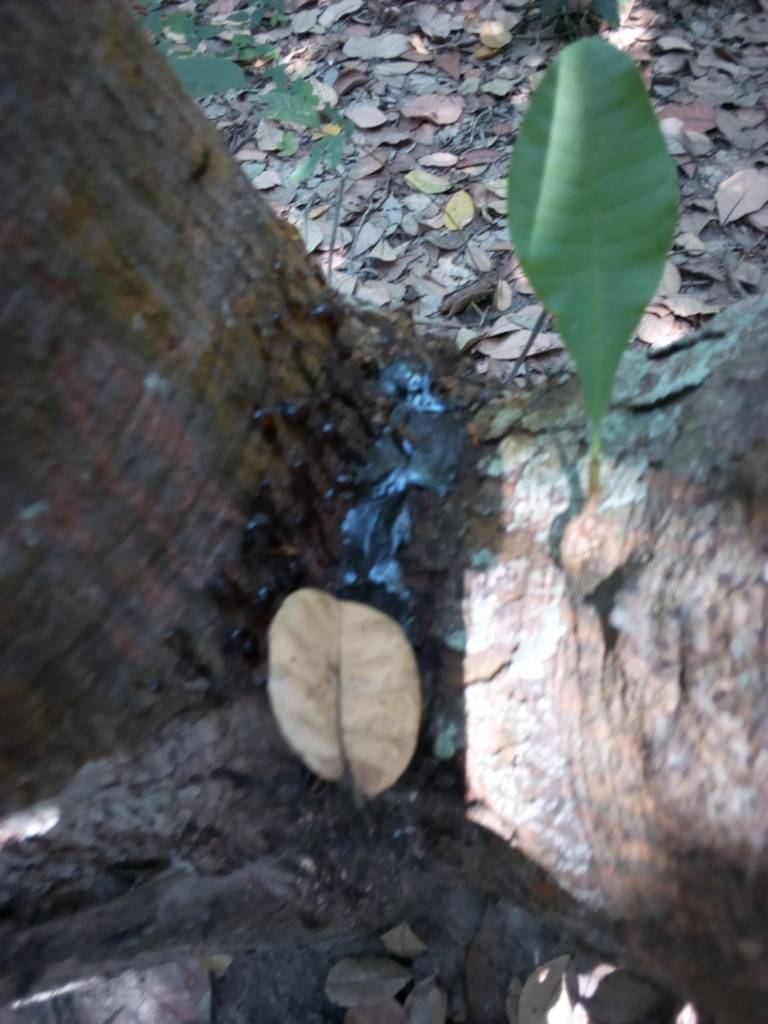Gommose: (232, 283, 449, 689)
